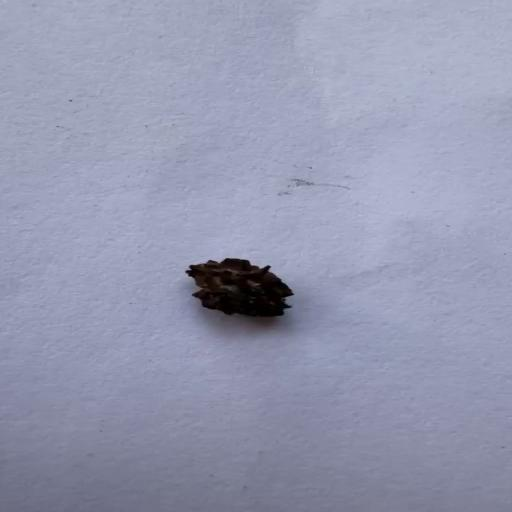papaya_seed: (184, 257, 297, 319)
